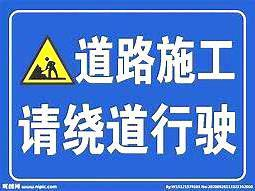sign: (8, 8, 247, 184)
